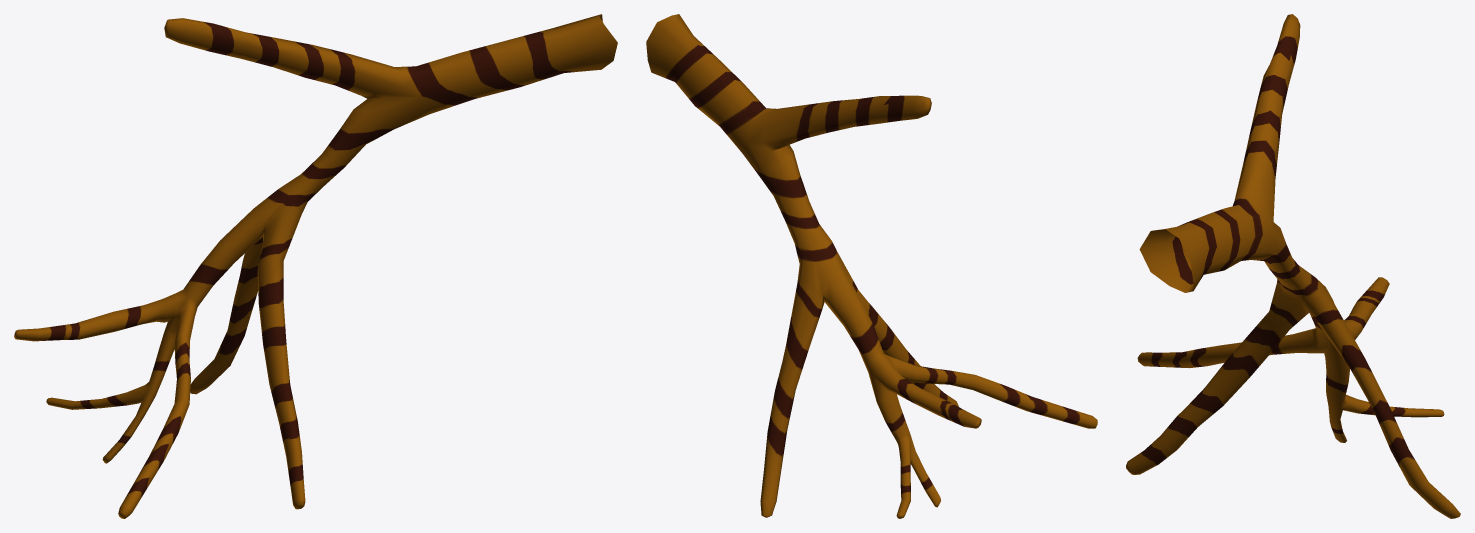
The model's file is trap_branch_B.fbx.
3 views of the same model, side by side, from view 1: azimuth 30°, elevation 25°; view 2: azimuth 150°, elevation 25°; view 3: azimuth 270°, elevation 25° (orthographic). The views are drawn at different scales.
Parts seen in each view (by area): view 1: trap_branch_B; view 2: trap_branch_B; view 3: trap_branch_B.
Part boxes in pixels (left/top/right/bottom): trap_branch_B: left=14, top=14, right=617, bottom=518; trap_branch_B: left=646, top=14, right=1097, bottom=518; trap_branch_B: left=1126, top=14, right=1460, bottom=518.
Bounding box in the file's own units: 519 × 449 × 301.
